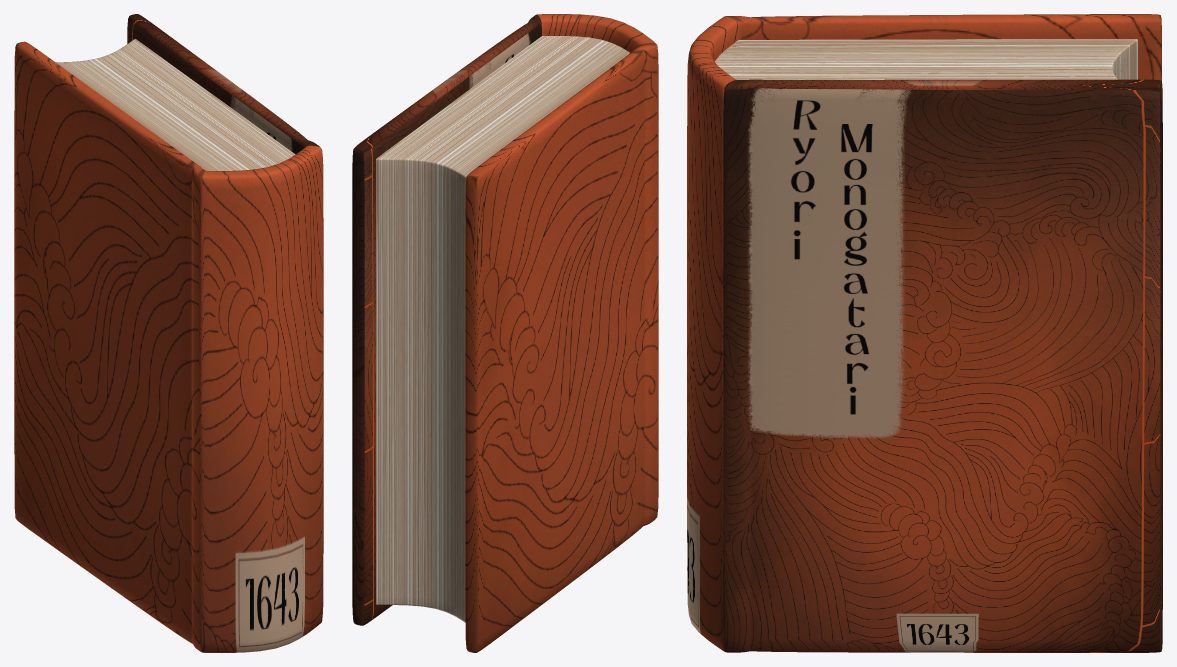
The model's file is book-2.glb.
The picture shows the model from 3 angles, left to right: view 1: azimuth 30°, elevation 25°; view 2: azimuth 150°, elevation 25°; view 3: azimuth 270°, elevation 25°; orthographic projection. The views are drawn at different scales.
Visible parts, largest first — view 1: Ryogi Monogatari, Book Pages.002; view 2: Ryogi Monogatari, Book Pages.002; view 3: Ryogi Monogatari, Book Pages.002.
Boxes of the visible parts, box(x1,y1,x2,y2) form: Ryogi Monogatari: box(14, 14, 323, 652); Book Pages.002: box(56, 38, 295, 170); Ryogi Monogatari: box(352, 14, 658, 652); Book Pages.002: box(376, 36, 629, 622); Ryogi Monogatari: box(687, 14, 1162, 652); Book Pages.002: box(715, 39, 1137, 79).
Bounding box in the file's own units: 0.2944 × 1.05 × 0.793.
Materials: 2 (2 with a texture image).
